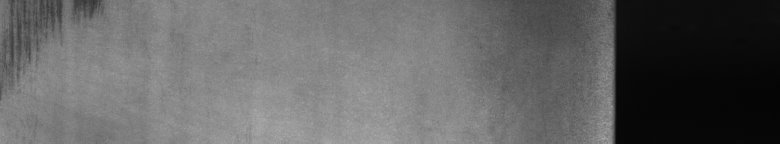ka: (4, 4, 101, 72)
